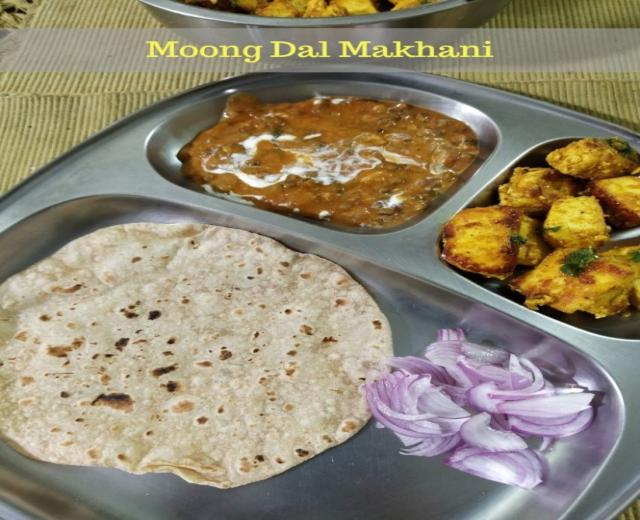dal makhni: (4, 191, 624, 514), (140, 76, 500, 235), (437, 137, 637, 338), (125, 1, 522, 56)
